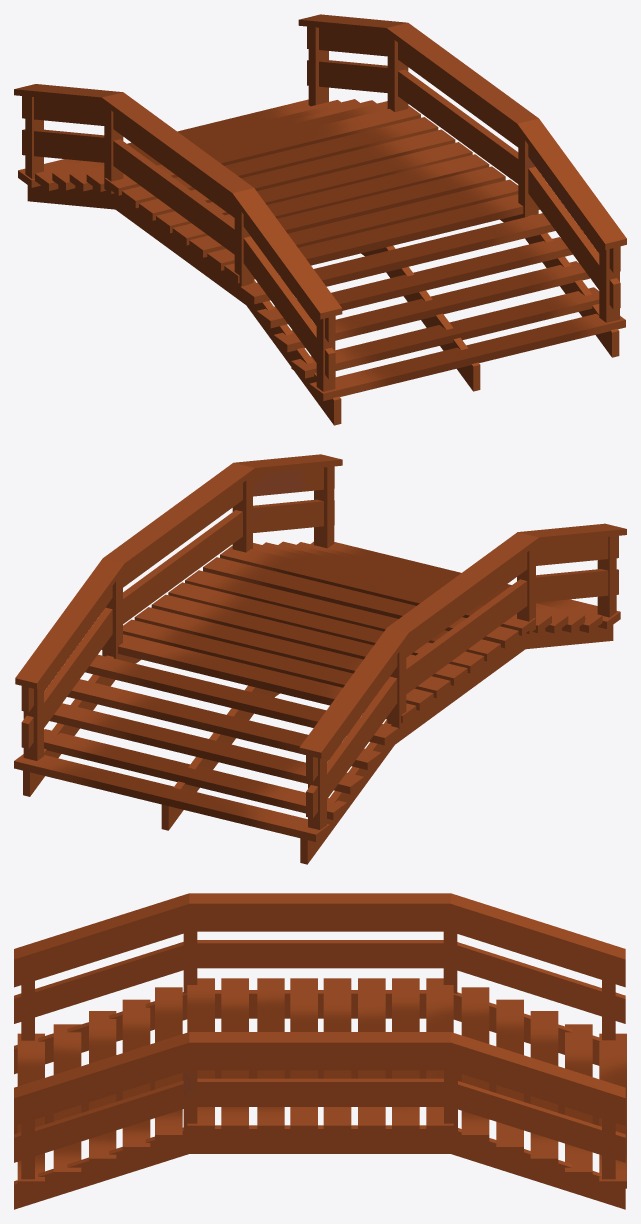
Rendered from Bridge.fbx.
The picture shows the model from 3 angles, top to bottom: view 1: azimuth 30°, elevation 25°; view 2: azimuth 150°, elevation 25°; view 3: azimuth 270°, elevation 25°; orthographic projection.
Visible parts, largest first — view 1: Cube; view 2: Cube; view 3: Cube.
Part boxes in pixels (left/top/right/bottom): Cube: left=14, top=14, right=626, bottom=425; Cube: left=14, top=454, right=626, bottom=864; Cube: left=14, top=893, right=626, bottom=1209.
Size of the model in its own units: 264 by 81.37 by 153.
